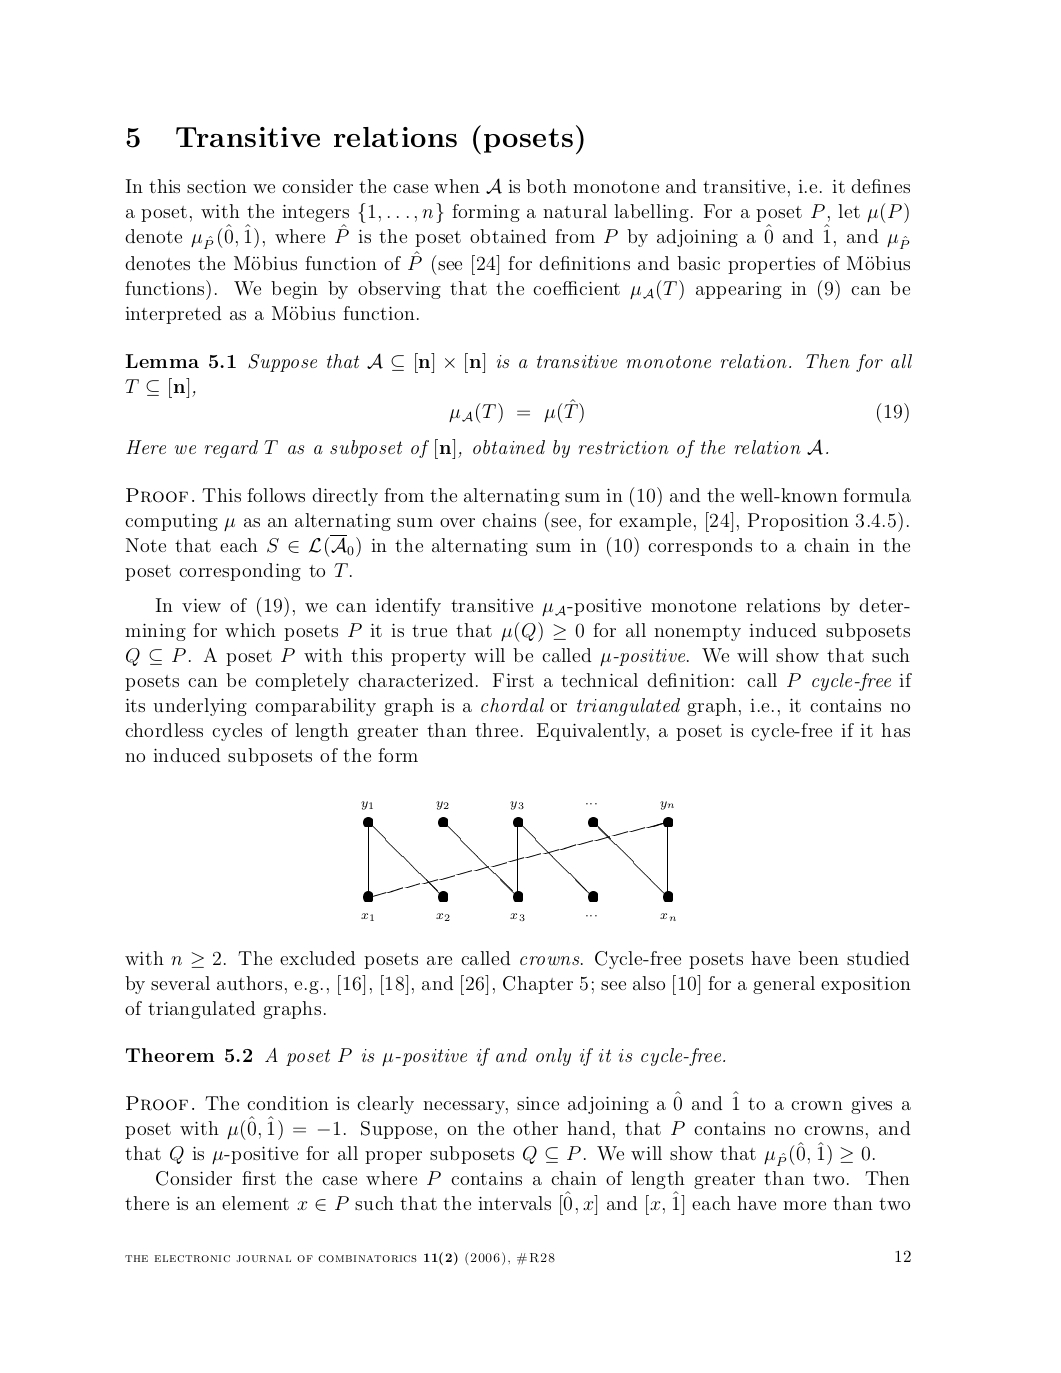figure: (361, 801, 675, 921)
formula: (449, 399, 908, 422)
